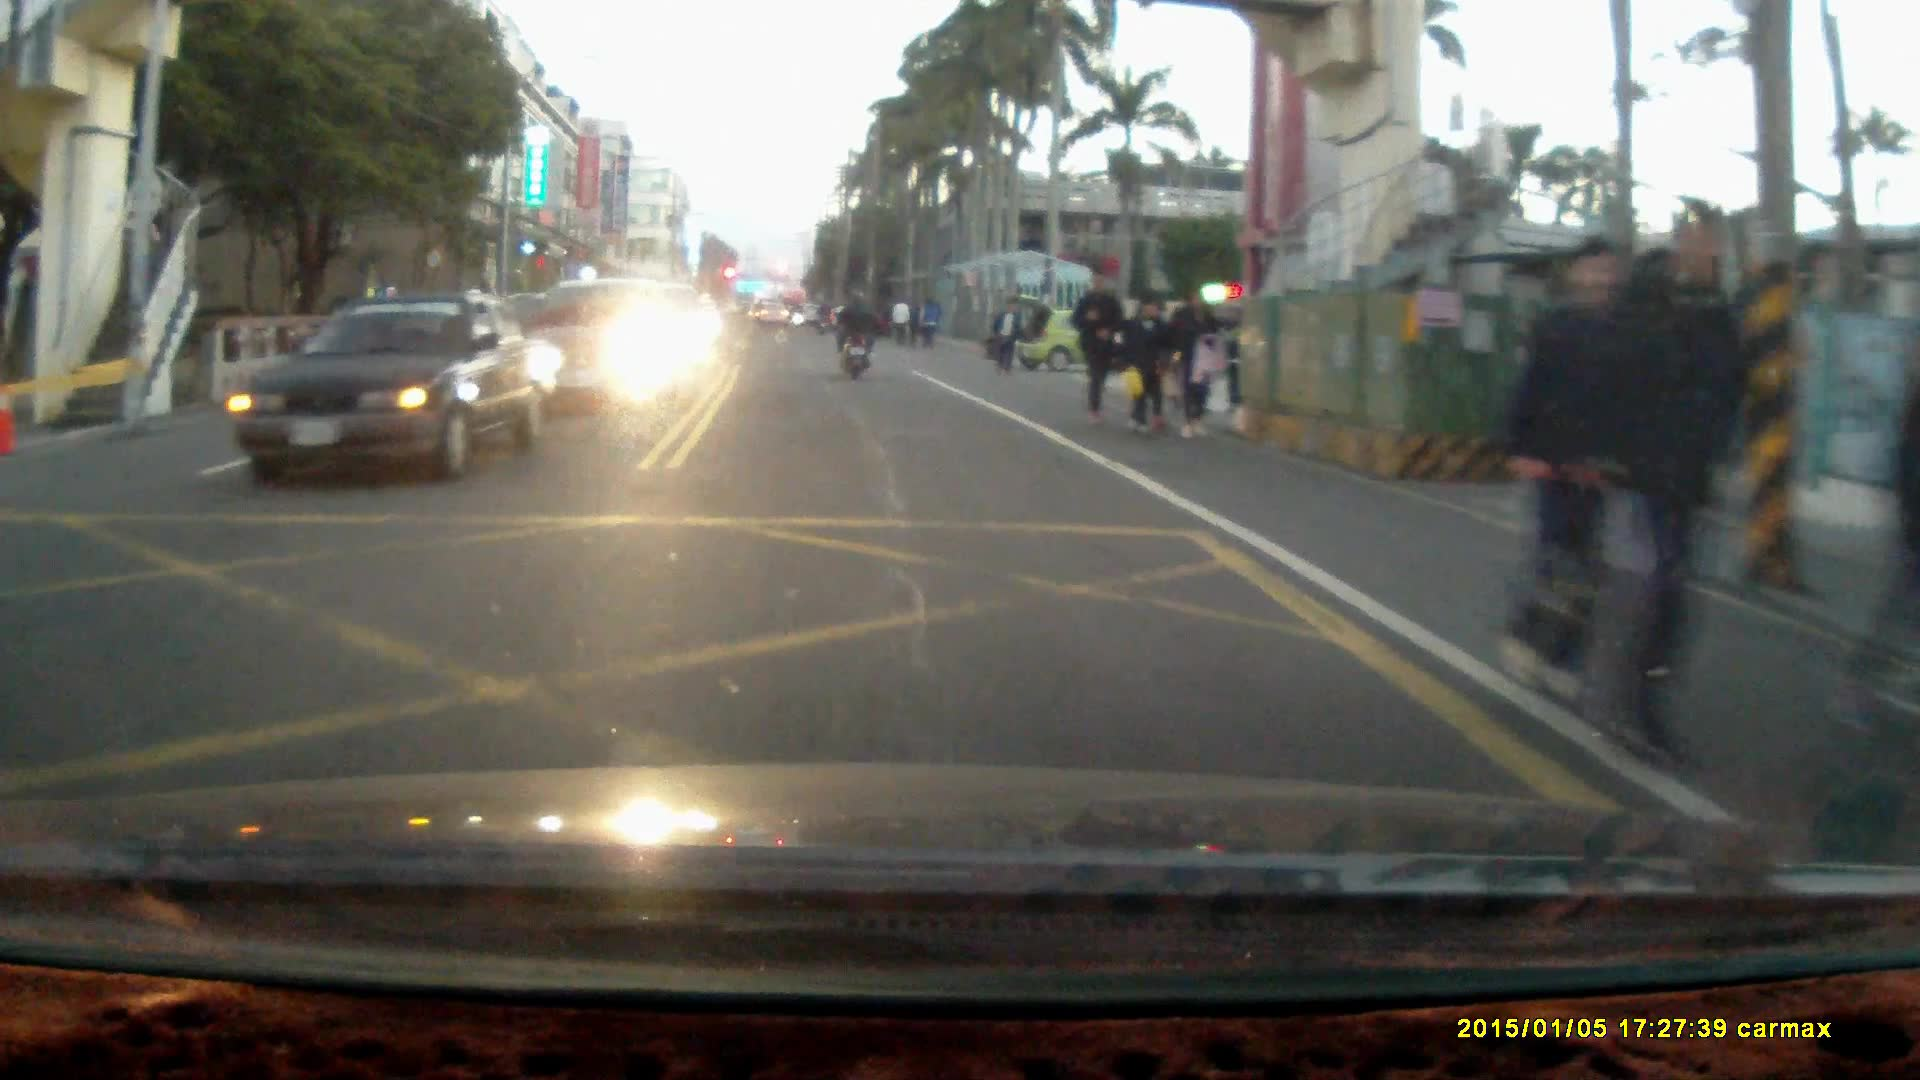pedestrian: (1566, 197, 1753, 774), (1504, 240, 1649, 700), (1816, 306, 1920, 742), (1071, 266, 1125, 431), (1170, 286, 1224, 439), (1121, 294, 1175, 430), (988, 299, 1017, 376)
rider: (833, 286, 874, 379)
vehicle: (227, 296, 560, 479), (512, 279, 690, 412), (1004, 297, 1161, 373)
